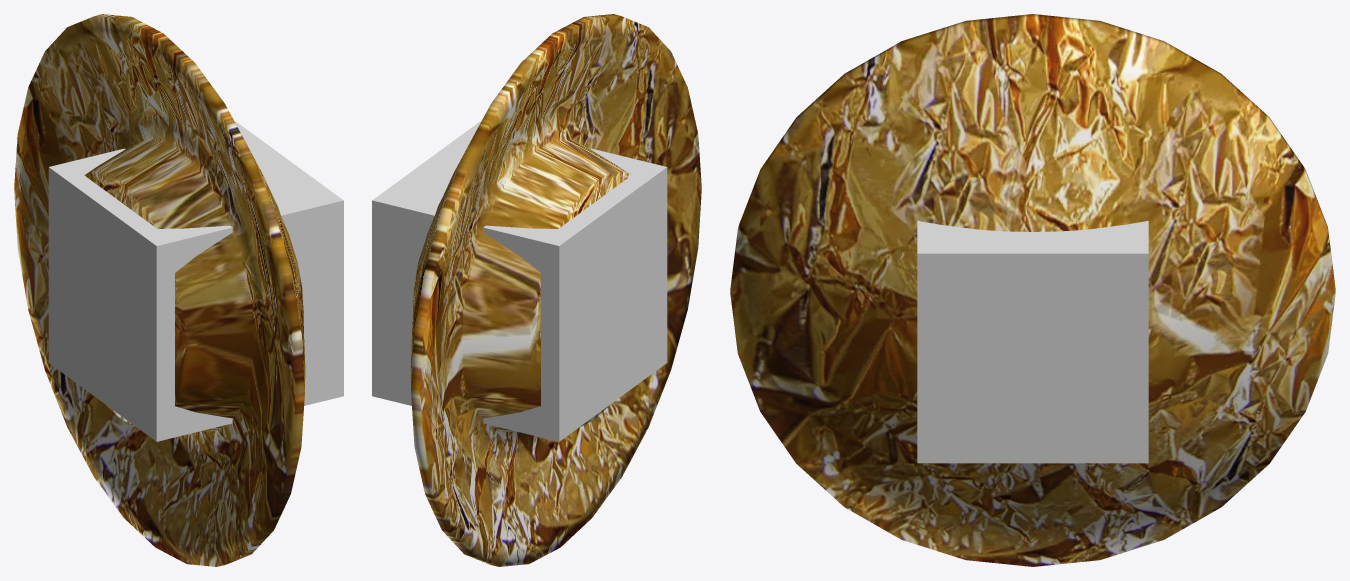
The model's file is cassini-huygens-a.glb.
3 renders of one model, left to right at view 1: azimuth 30°, elevation 25°; view 2: azimuth 150°, elevation 25°; view 3: azimuth 270°, elevation 25°, orthographic. The views are drawn at different scales.
Visible parts, largest first — view 1: foil_gold_h, Cube.003; view 2: foil_gold_h, Cube.003; view 3: foil_gold_h, Cube.003.
Part boxes in pixels (<box>): foil_gold_h: <box>14,14,305,566</box>; Cube.003: <box>48,121,343,441</box>; foil_gold_h: <box>410,14,701,566</box>; Cube.003: <box>372,121,667,441</box>; foil_gold_h: <box>730,14,1335,566</box>; Cube.003: <box>917,221,1148,463</box>.
Size of the model in its own units: 1 by 2.62 by 2.62.
Materials: 2 (1 with a texture image).
